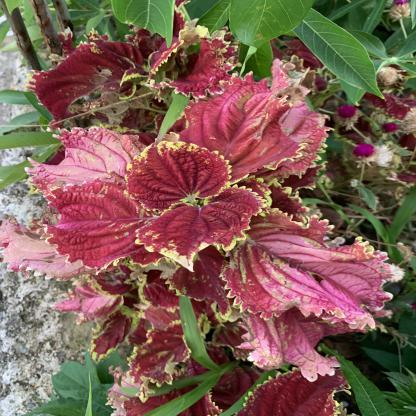Bunga Coleus: (23, 54, 366, 405)
